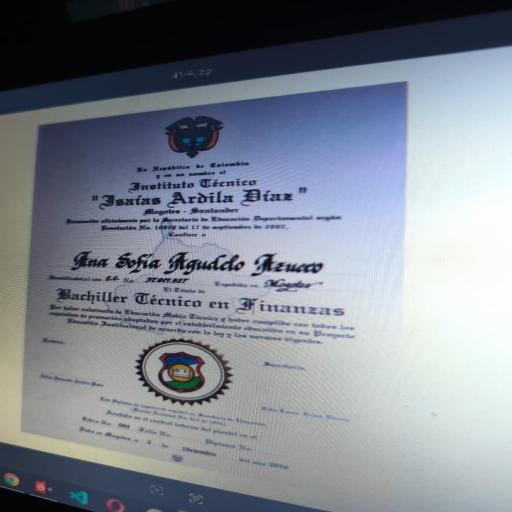diploma: (19, 91, 408, 501)
escudo: (156, 109, 237, 167)
institucion: (73, 169, 329, 212)
nombre: (55, 243, 348, 285)
